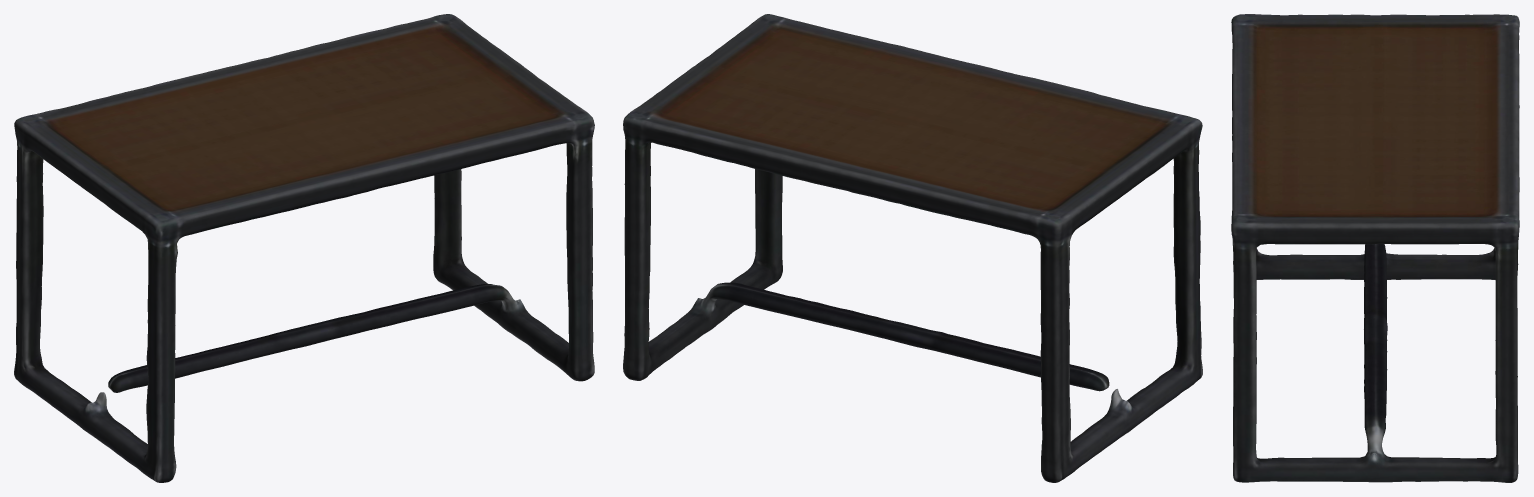
The model's file is 8c32e85761d1_cofee_table__3d_ass.fbx.
3 renders of one model, left to right at view 1: azimuth 30°, elevation 25°; view 2: azimuth 150°, elevation 25°; view 3: azimuth 270°, elevation 25°, orthographic.
Parts seen in each view (by area): view 1: mesh; view 2: mesh; view 3: mesh.
Boxes of the visible parts, left/top/right/bottom form: mesh: left=14, top=14, right=594, bottom=482; mesh: left=623, top=14, right=1202, bottom=482; mesh: left=1231, top=14, right=1519, bottom=482.
Size of the model in its own units: 99.92 by 57.03 by 57.07.
